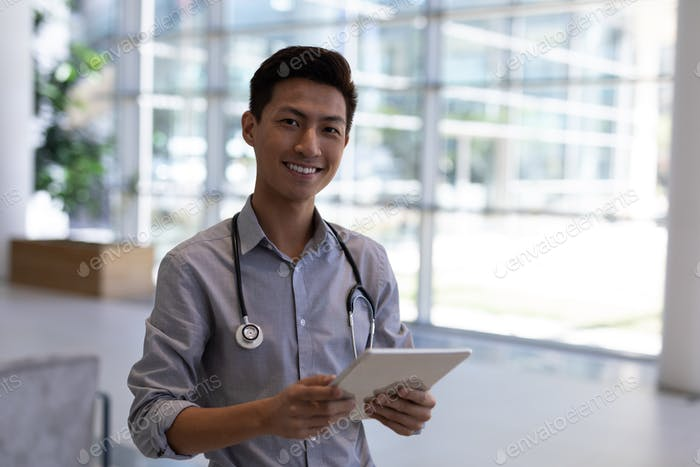bare: (254, 140, 346, 201)
